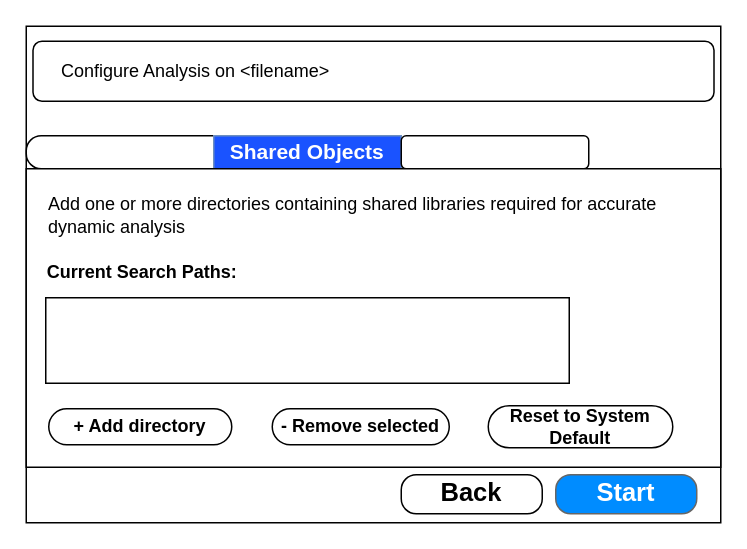
Some shapes in this 747 by 549 pixel diagram are drawn without their labels. Each missing label, with the centre of its shape:
"/home/user/libs /user/lib/..." belongs at [306,339].
"Entrypoints" belongs at [494,151].
"General" belongs at [119,151].
